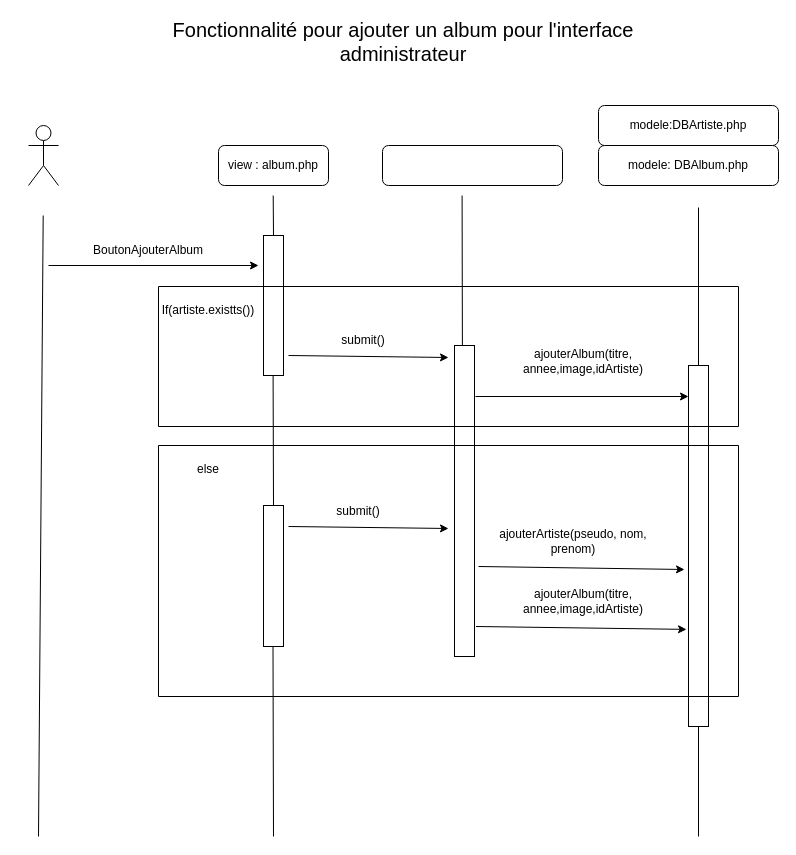
Some shapes in this 796 by 855 pixel diagram are drawn without their labels. The shapes that lost their labels are listed below. From the top down, each one's box as (x1, y1, x2, y2) in pixels, then its label:
(28, 124, 58, 186): Utilisateur
(382, 144, 562, 186): controleur: controlleurAlbum.php
